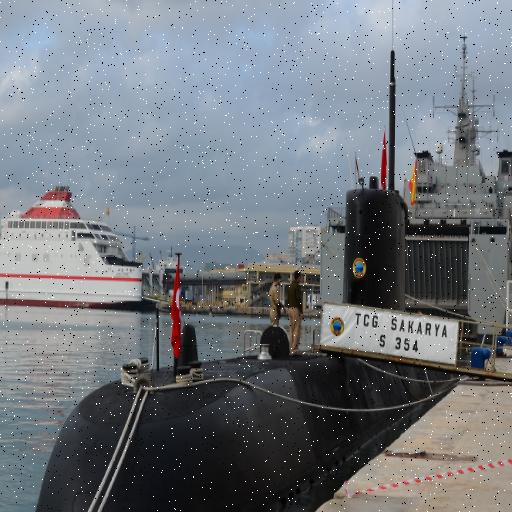submarine: (25, 32, 471, 512)
